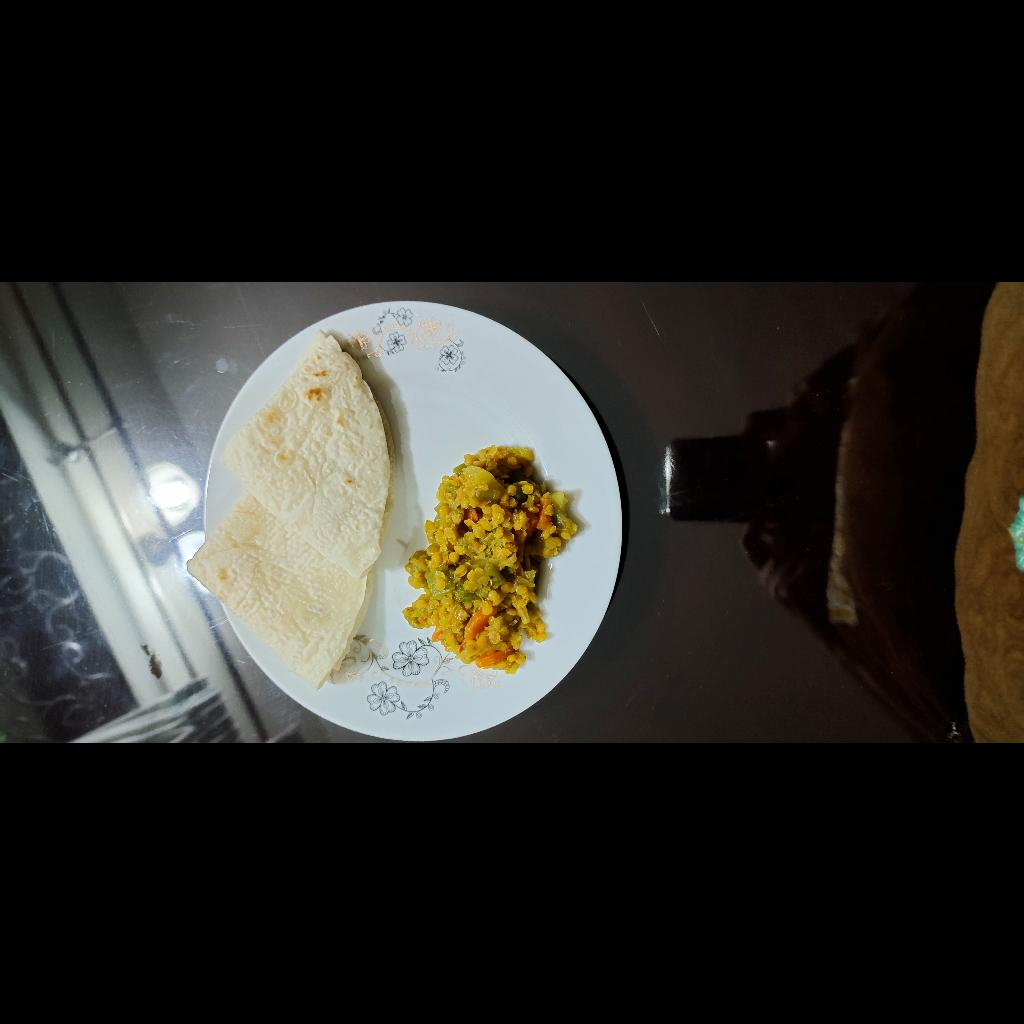daal: (66, 682, 298, 867)
ruti: (52, 465, 416, 677)
